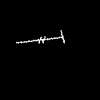treble_crochet: (16, 32, 64, 42)
